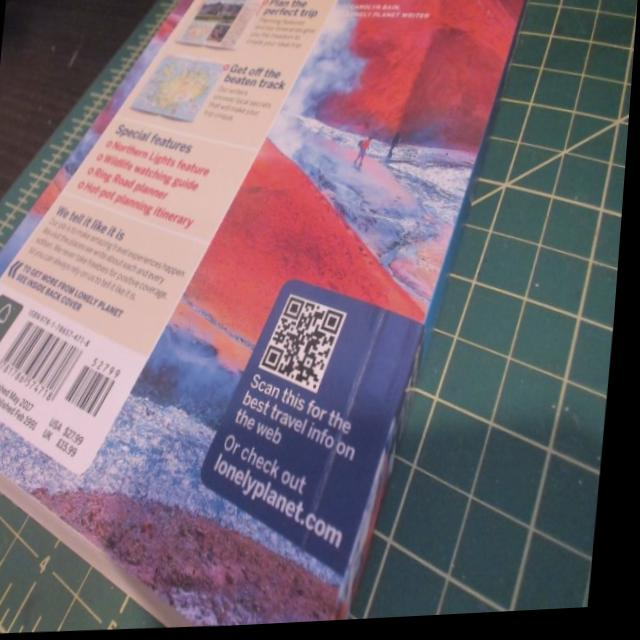QR_CODE: (256, 277, 361, 406)
